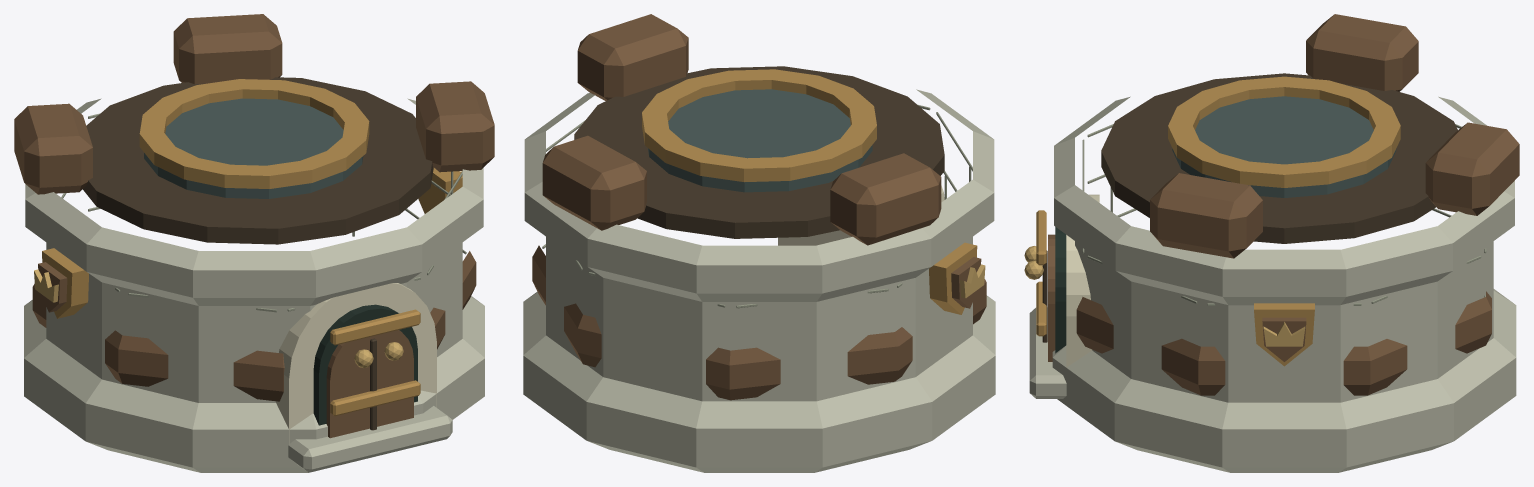
Rendered from tower.glb.
3 views of the same model, side by side, from view 1: azimuth 30°, elevation 25°; view 2: azimuth 150°, elevation 25°; view 3: azimuth 270°, elevation 25° (orthographic). The views are drawn at different scales.
Visible parts, largest first — view 1: Stone, Timber, Metal; view 2: Stone, Timber, Metal; view 3: Stone, Timber, Metal.
Part boxes in pixels (bbox=[...]): Stone: bbox=[24, 98, 484, 472]; Timber: bbox=[14, 14, 494, 438]; Metal: bbox=[34, 79, 462, 416]; Stone: bbox=[523, 89, 995, 472]; Timber: bbox=[532, 14, 986, 400]; Metal: bbox=[642, 69, 985, 314]; Stone: bbox=[1029, 96, 1516, 472]; Timber: bbox=[1042, 14, 1519, 395]; Metal: bbox=[1024, 76, 1400, 366].
Size of the model in its own units: 2.75 by 1.74 by 2.79.
